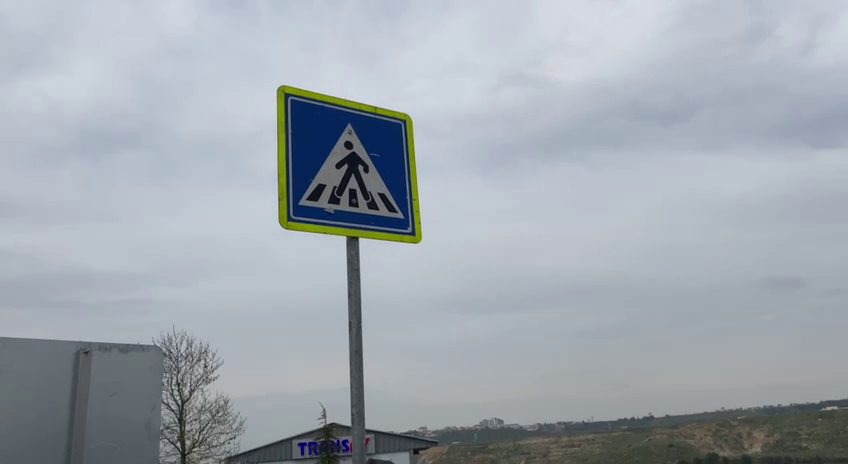pedestrianCrossing: (275, 83, 424, 247)
